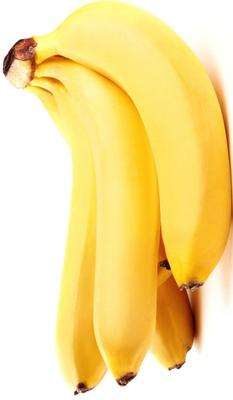banana: (0, 0, 233, 400)
